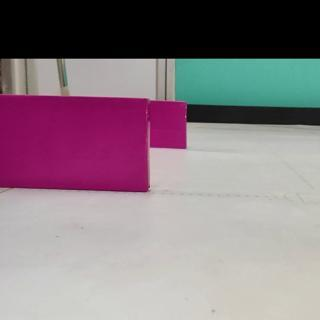xparking: (3, 98, 146, 189), (151, 103, 184, 148)
